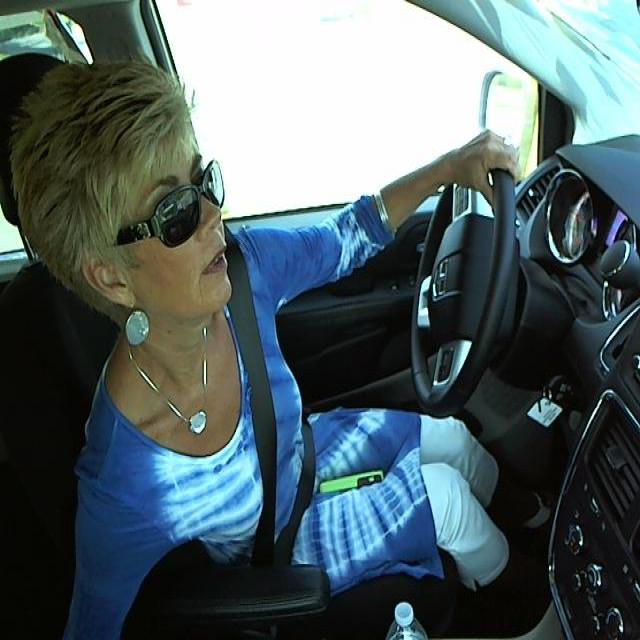seatbelt: (227, 285, 327, 556)
